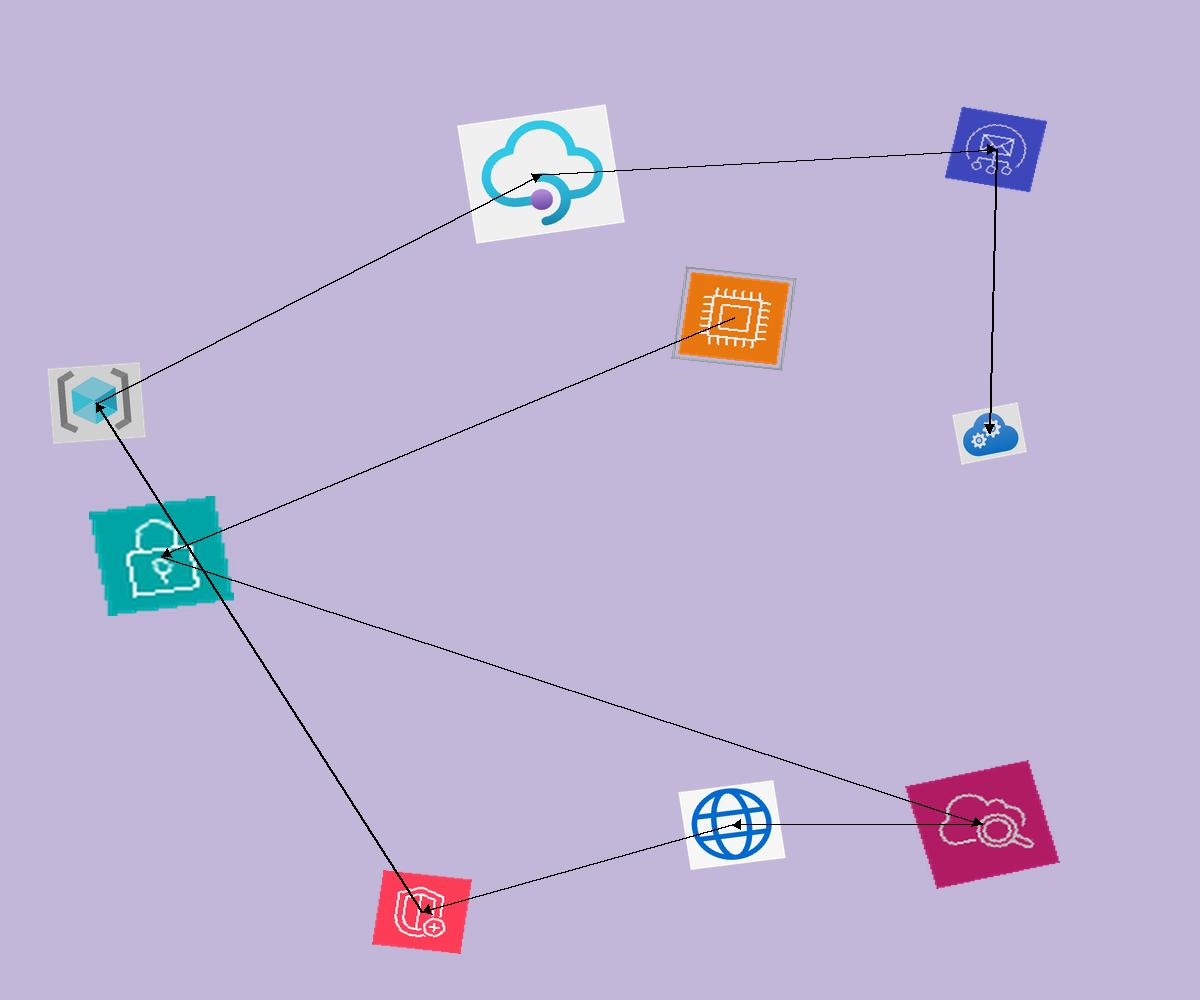AWS-Category_Compute: (671, 266, 797, 371)
AWS-CloudWatch: (905, 760, 1060, 889)
AWS-Private-subnet: (89, 496, 234, 616)
AWS-Shield: (372, 870, 472, 954)
AWS-Simple-Email-Service: (944, 106, 1048, 193)
Azure_api_gateway: (457, 104, 625, 244)
Azure_cloud_services: (952, 402, 1027, 465)
Azure_http: (678, 780, 786, 870)
Azure_resource_group: (47, 362, 146, 444)
